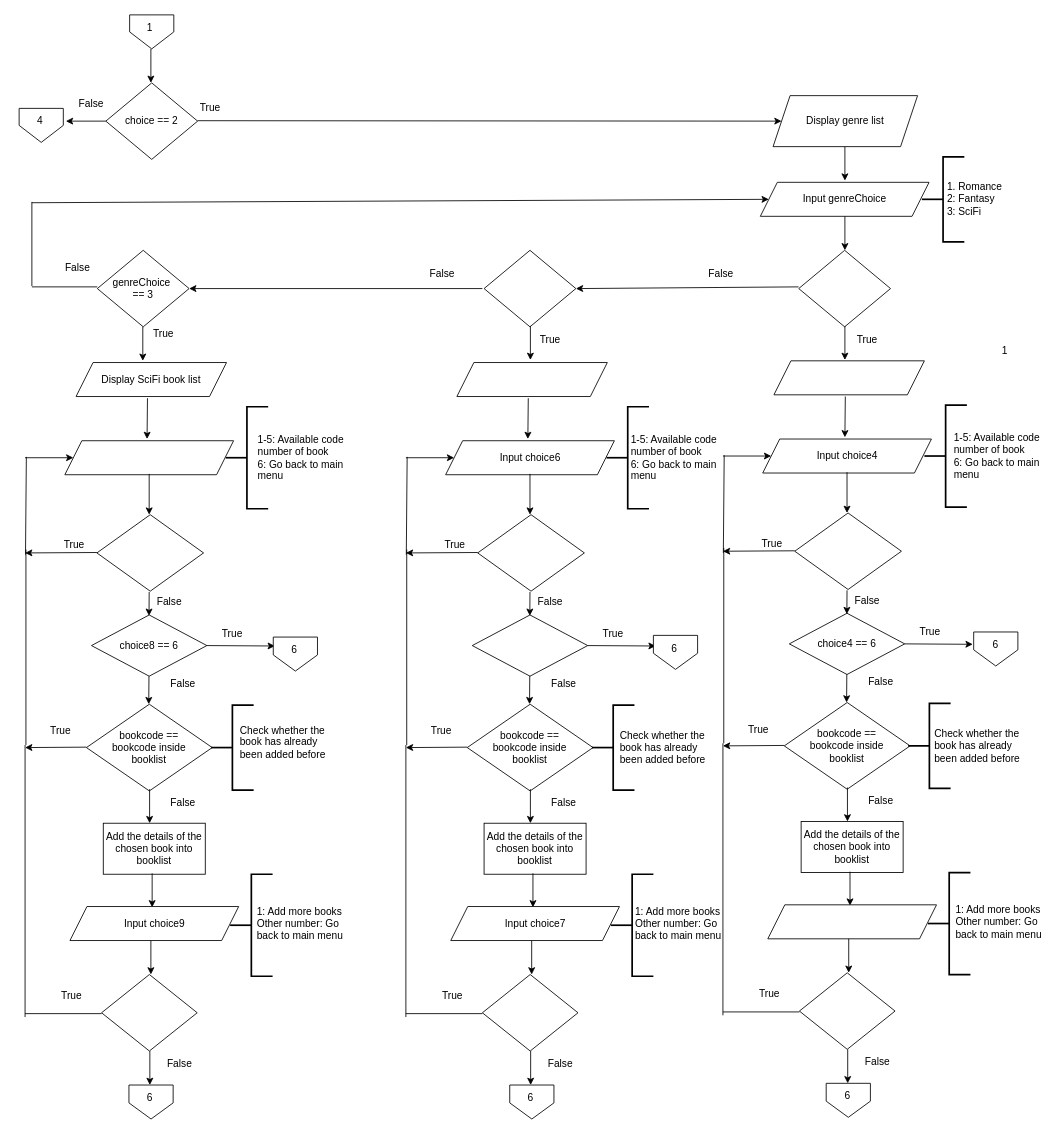
Image size: 1060x1134. Some labels were removed from this diagram. The shapes that lost their labels are listed below. From the top down, each one's centre as x and y in pixels, then its label:
At (x=529, y=288): "genreChoice == 2".
At (x=844, y=288): "genreChoice == 1".
At (x=531, y=379): "Display Fantasy book list".
At (x=848, y=377): "Display romance book list".
At (x=149, y=457): "Input choice8".
At (x=150, y=552): "choice8 < 1 || choice8 > 6".
At (x=530, y=552): "choice6 < 1 || choice6 > 6".
At (x=847, y=550): "choice4 < 1 || choice4 > 6".
At (x=529, y=645): "choice6 == 6".
At (x=852, y=921): "Input choice5".
At (x=149, y=1012): "choice9 == 1".
At (x=530, y=1012): "choice7 == 1".
At (x=847, y=1010): "choice5 == 1".
